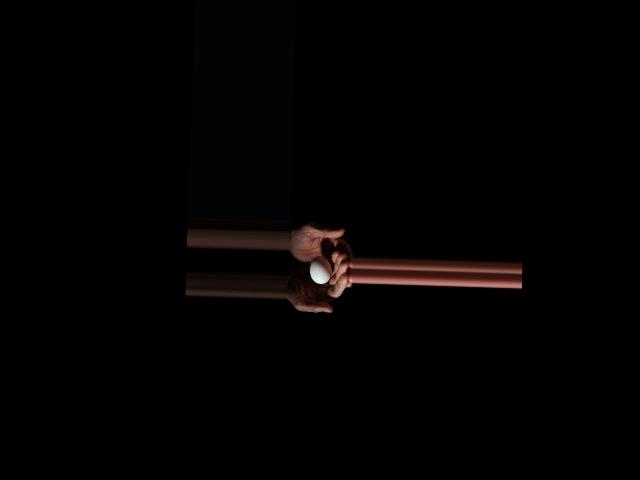egg: (309, 255, 332, 284)
